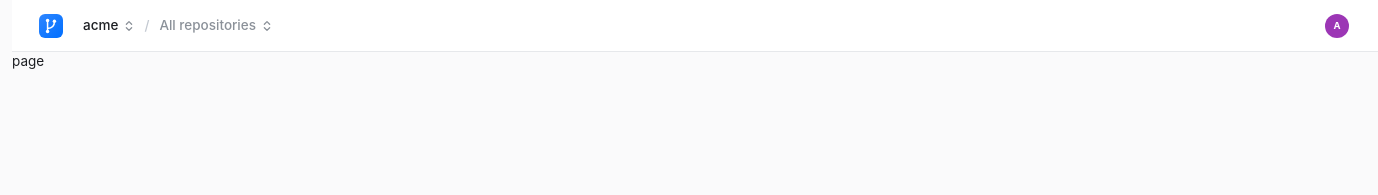
Scenario: Frame › names the organization of the page and lists the others with the role of the person
Click the button named "Organization: acme". click: click(109, 26)
box: [75,12,142,40]
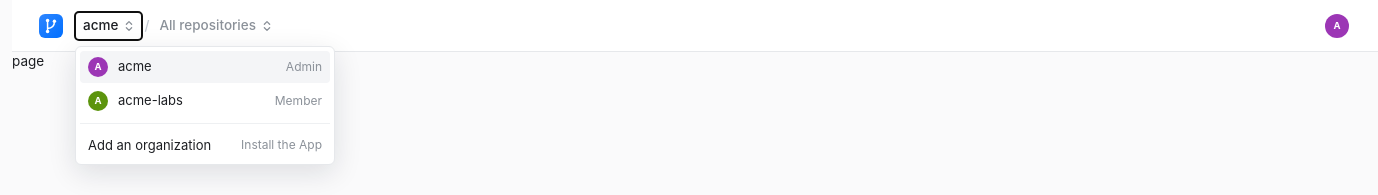
Now the link "A acme Admin" is shown, box [80,50,330,82]
